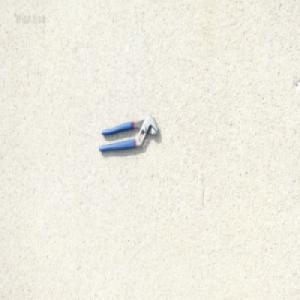Pliers: (98, 114, 159, 154)
